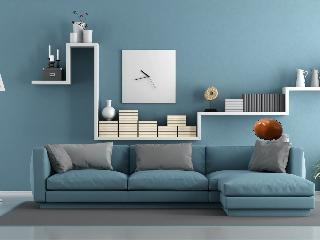potato: (251, 116, 286, 144)
